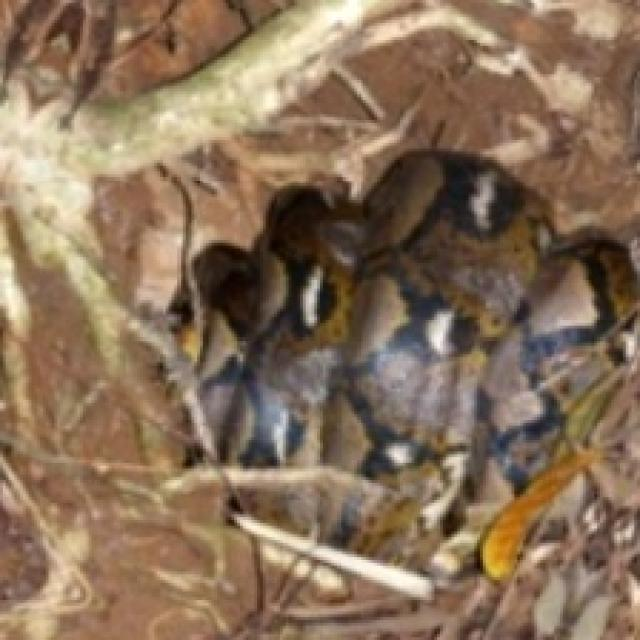reticulated python: (189, 151, 634, 577)
